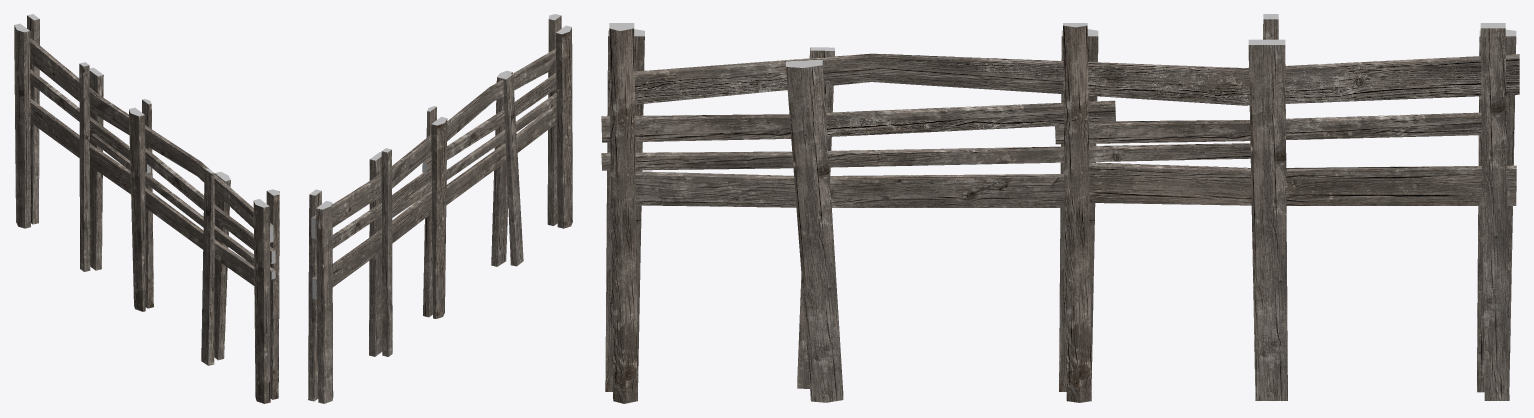
File: Fence1B.fbx
3 views of the same model, side by side, from view 1: azimuth 30°, elevation 25°; view 2: azimuth 150°, elevation 25°; view 3: azimuth 270°, elevation 25° (orthographic). The views are drawn at different scales.
Visible parts, largest first — view 1: polySurface17; view 2: polySurface17; view 3: polySurface17.
Part boxes in pixels (bbox=[...]): polySurface17: bbox=[14, 14, 279, 403]; polySurface17: bbox=[308, 14, 572, 403]; polySurface17: bbox=[601, 14, 1519, 403].
Bounding box in the file's own units: 0.2387 × 2.03 × 4.53.
